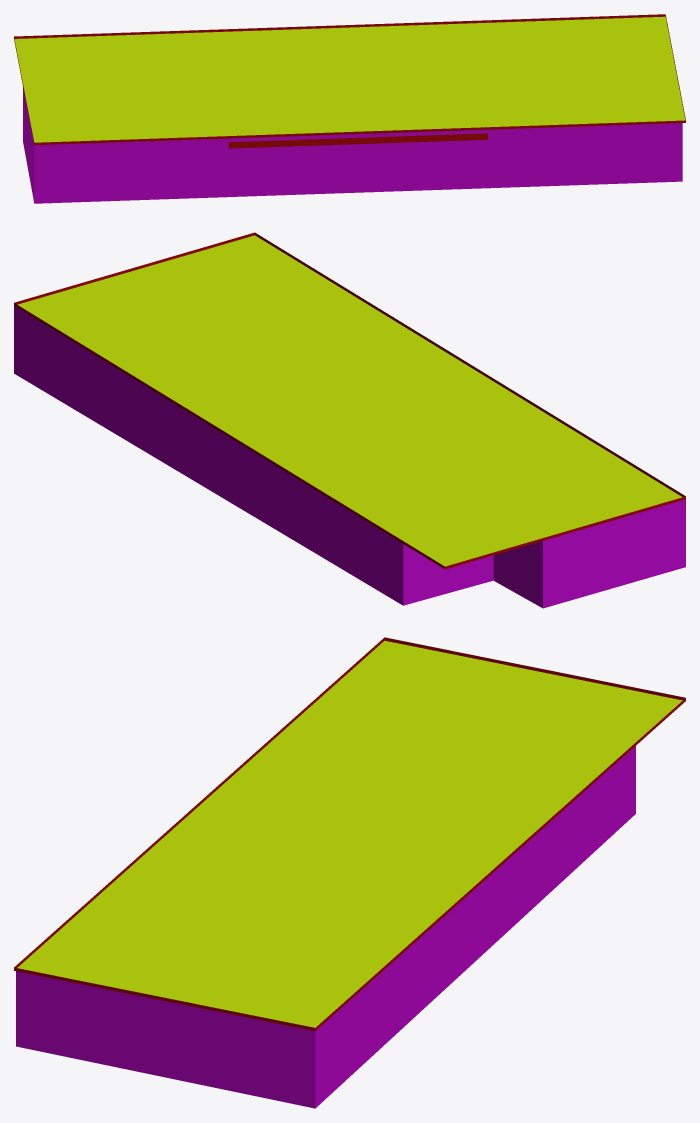
Rendered from bgj_53.glb.
3 views of the same model, one above another, from view 1: azimuth 30°, elevation 25°; view 2: azimuth 150°, elevation 25°; view 3: azimuth 270°, elevation 25° (orthographic). The views are drawn at different scales.
Parts seen in each view (by area): view 1: bgj_53; view 2: bgj_53; view 3: bgj_53.
Part boxes in pixels (box(x1,y1,x2,y2)): bgj_53: box(14, 14, 685, 203); bgj_53: box(14, 232, 685, 608); bgj_53: box(14, 637, 685, 1108).
Bounding box in the file's own units: 88.67 × 8.54 × 64.47.
